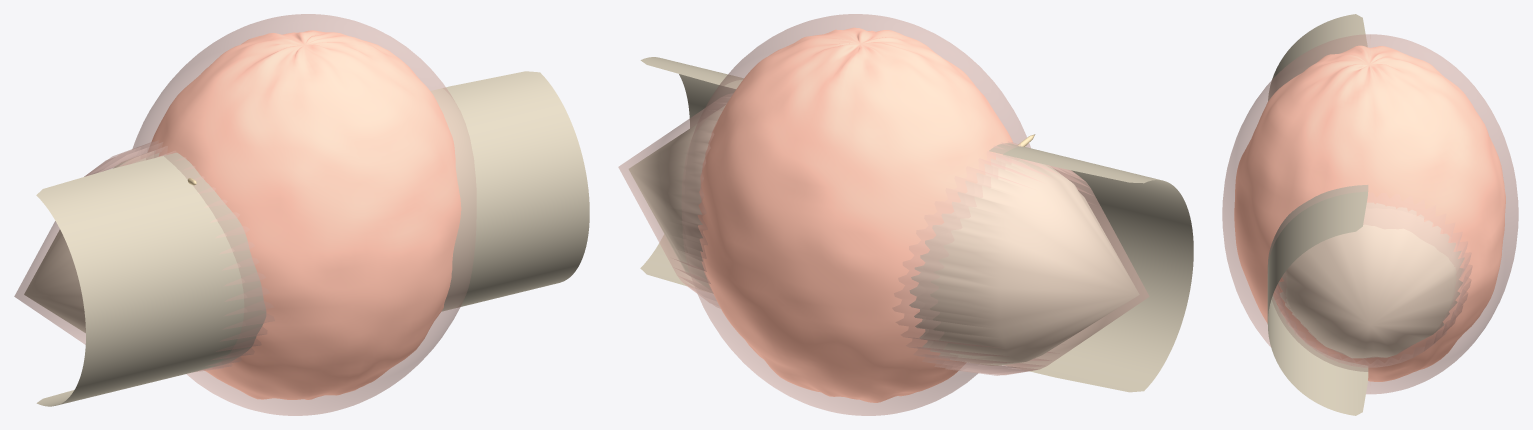
Rendered from bone.glb.
3 renders of one model, left to right at view 1: azimuth 30°, elevation 25°; view 2: azimuth 150°, elevation 25°; view 3: azimuth 270°, elevation 25°, orthographic. The views are drawn at different scales.
Parts seen in each view (by area): view 1: Periosteum_Bulge, Dysplastic_Expansion, Inner_Bone, Periosteum, Bone_Segment; view 2: Periosteum_Bulge, Dysplastic_Expansion, Periosteum, Bone_Segment, Inner_Bone; view 3: Periosteum_Bulge, Dysplastic_Expansion, Periosteum, Bone_Segment, Inner_Bone.
Part boxes in pixels (x1,y1,x2,y2): Periosteum_Bulge: (132,14,476,415); Dysplastic_Expansion: (148,30,461,399); Inner_Bone: (36,71,589,406); Periosteum: (14,140,274,372); Bone_Segment: (24,151,159,332); Periosteum_Bulge: (682,14,1030,415); Dysplastic_Expansion: (698,27,1012,402); Periosteum: (618,93,1149,375); Bone_Segment: (629,105,1139,365); Inner_Bone: (640,57,1193,392); Periosteum_Bulge: (1222,34,1518,394); Dysplastic_Expansion: (1234,45,1505,381); Periosteum: (1273,193,1472,367); Bone_Segment: (1278,203,1464,358); Inner_Bone: (1267,14,1368,415).
Size of the model in its own units: 2.43 by 1.64 by 1.32.
